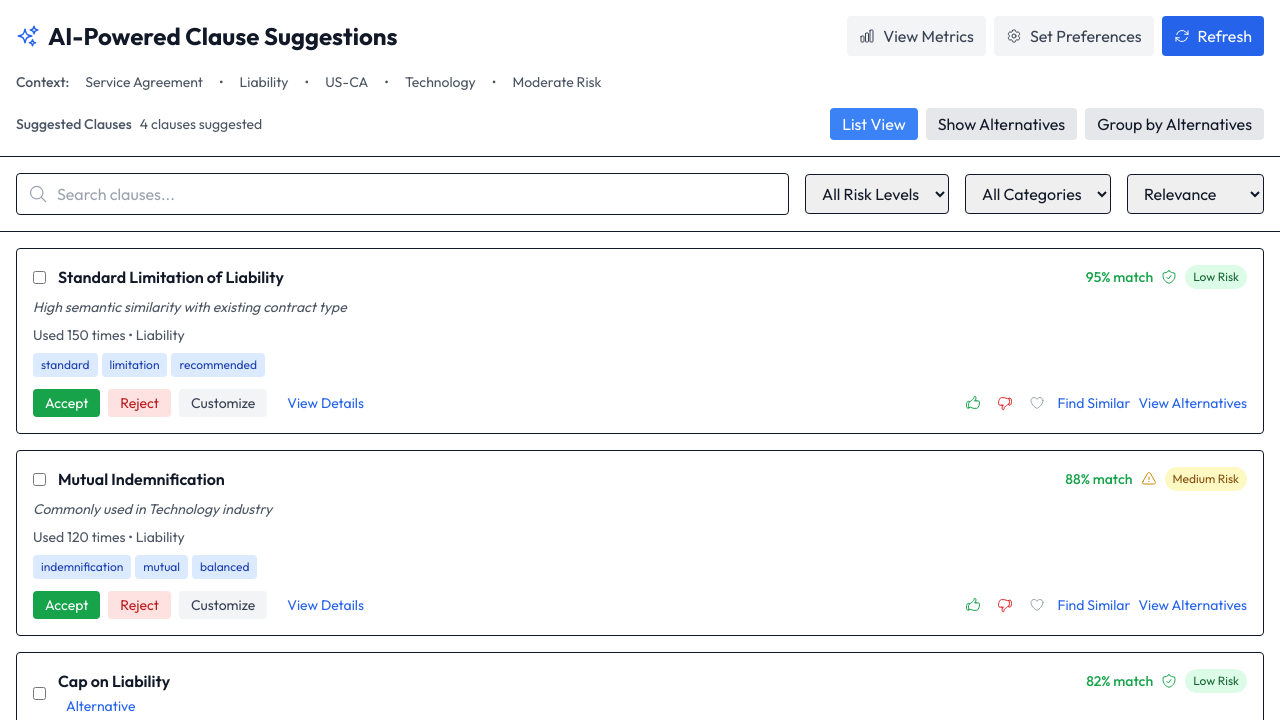
Test: ClauseSuggestions › Alternative Clauses › should get alternative clauses
Click the button "View Alternatives" below "95" at point(1193, 403), box [1138, 393, 1247, 413]
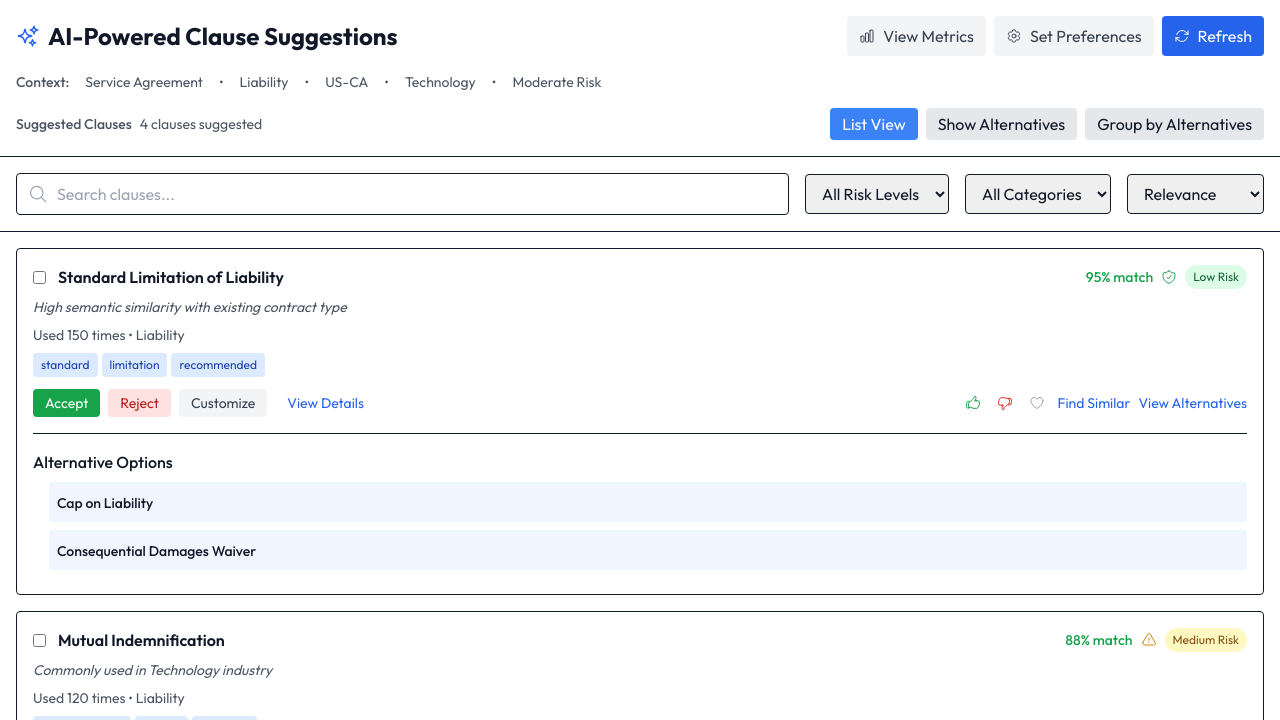
Expected: the heading "Alternative Options" is shown, [33, 452, 173, 472]
